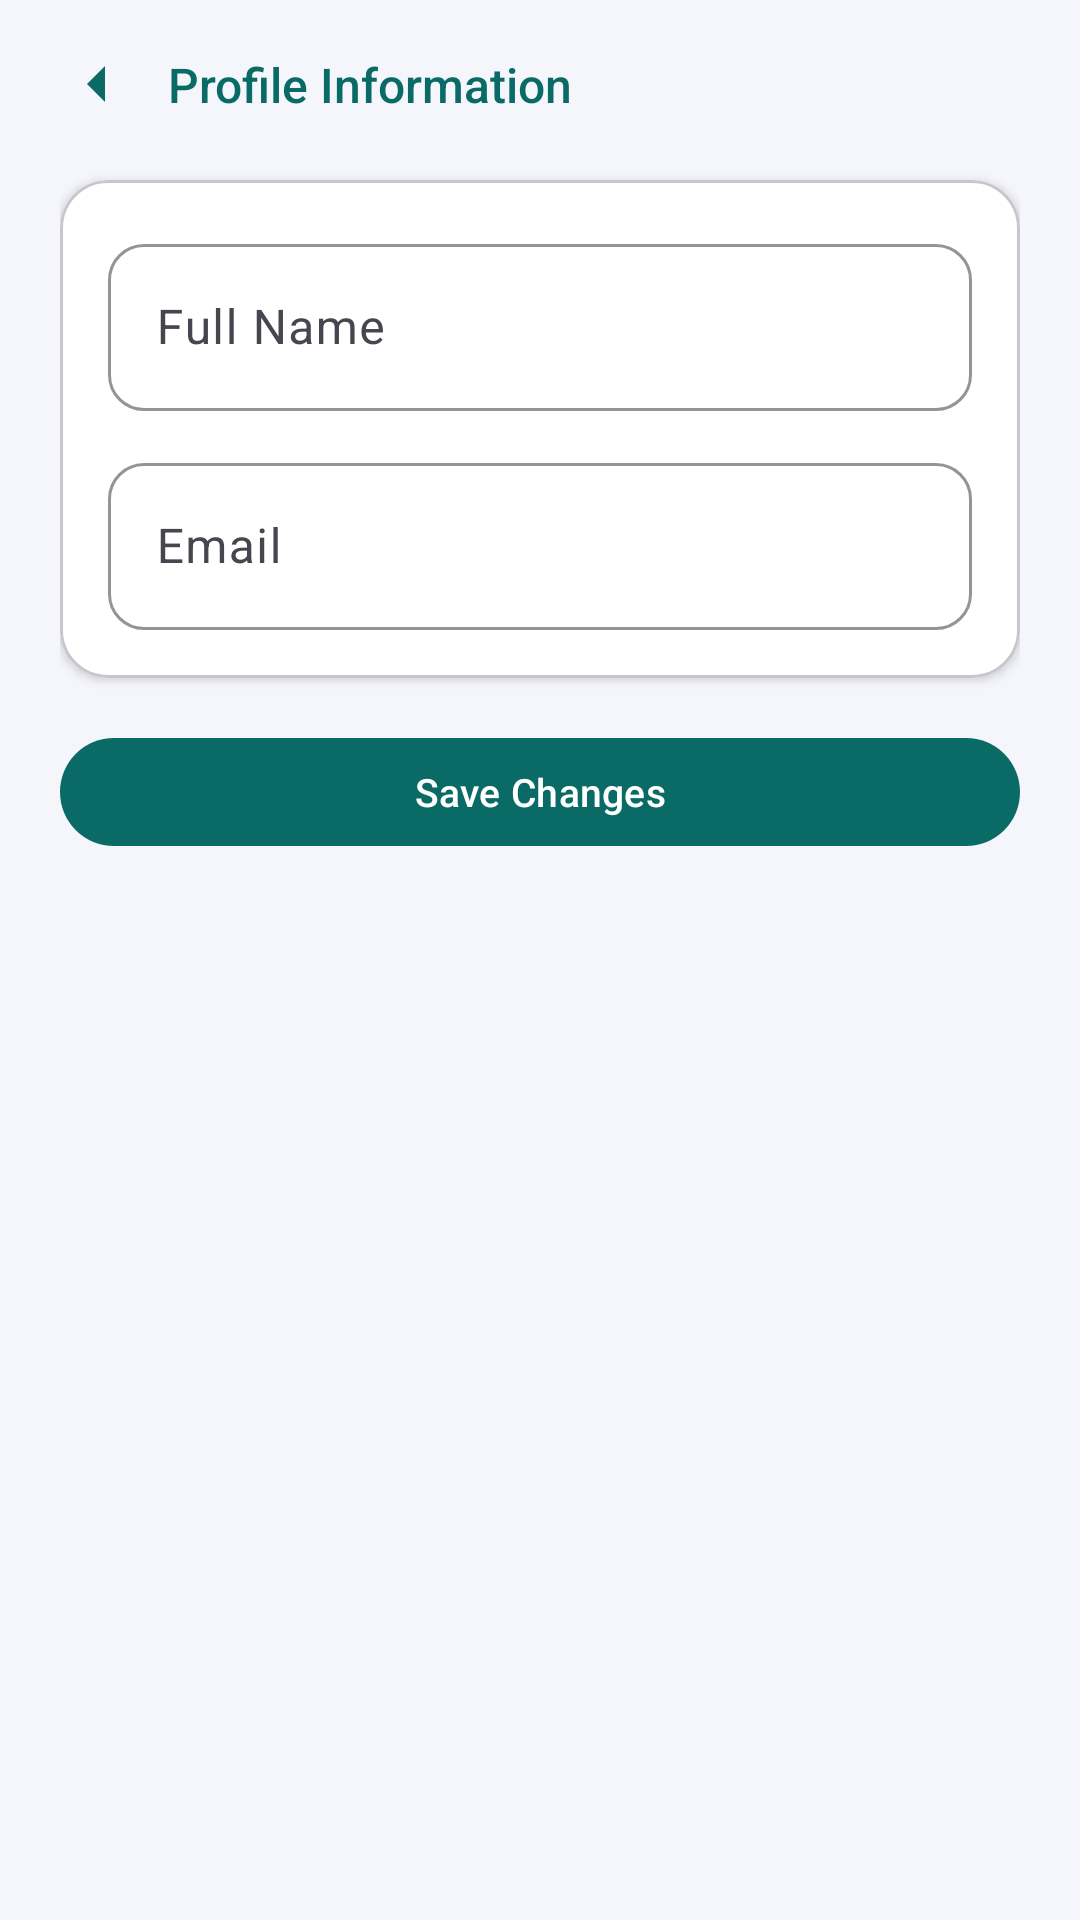

Named icons in this screenshot (1080 × 1920) and their centers, [x,y]:
Back: [96,84]
